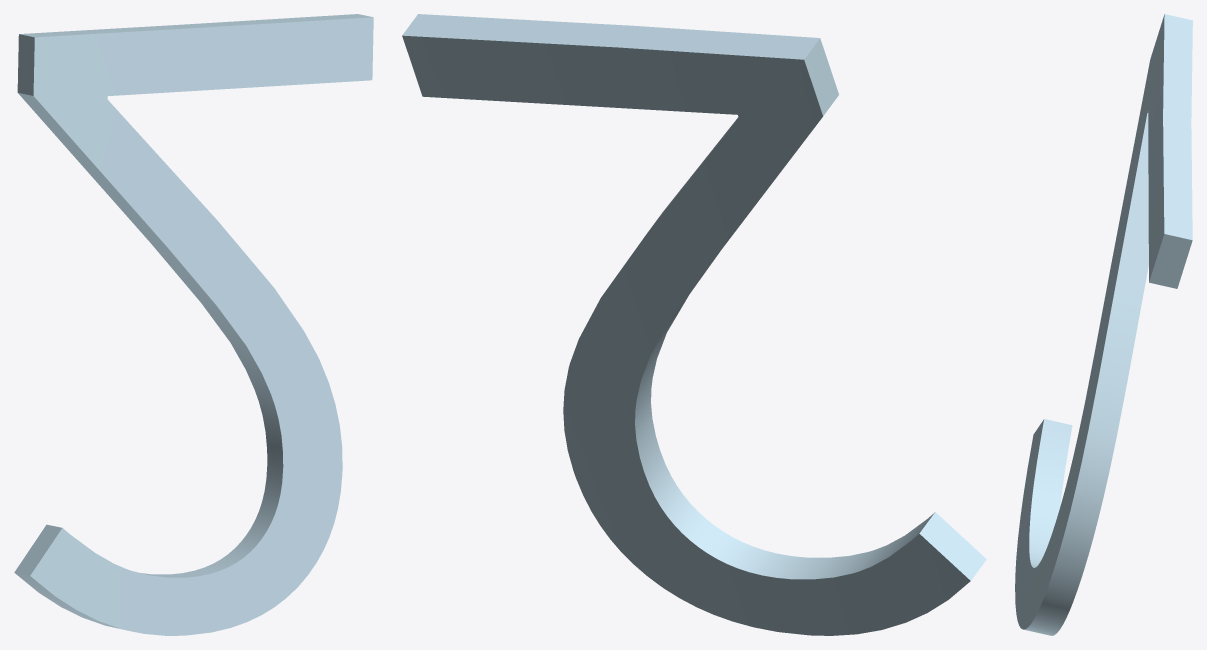
Rendered from Number_2.gltf.
3 renders of one model, left to right at view 1: azimuth 30°, elevation 25°; view 2: azimuth 150°, elevation 25°; view 3: azimuth 270°, elevation 25°, orthographic. The views are drawn at different scales.
Parts seen in each view (by area): view 1: Sub_6_Cell_3_3_Number_2; view 2: Sub_6_Cell_3_3_Number_2; view 3: Sub_6_Cell_3_3_Number_2.
Part boxes in pixels (<box>): Sub_6_Cell_3_3_Number_2: <box>14,14,373,635</box>; Sub_6_Cell_3_3_Number_2: <box>402,14,986,635</box>; Sub_6_Cell_3_3_Number_2: <box>1015,14,1192,635</box>.
Size of the model in its own units: 0.0198 by 0.0262 by 0.00768.
